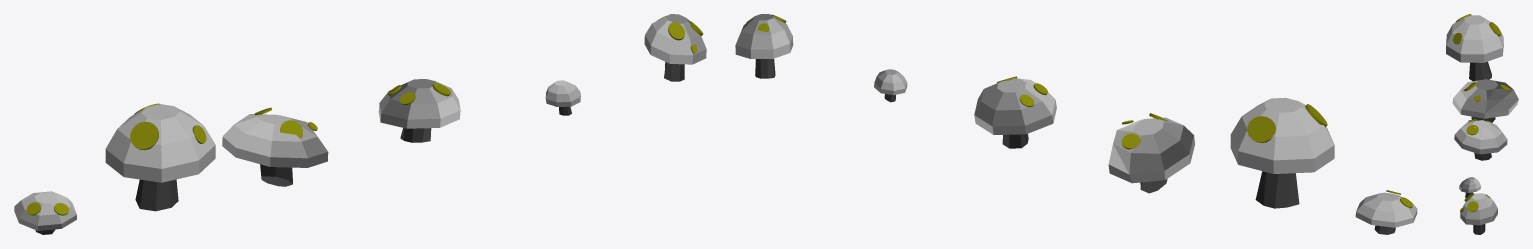
Rendered from YellowMushrooms.fbx.
The picture shows the model from 3 angles, left to right: view 1: azimuth 30°, elevation 25°; view 2: azimuth 150°, elevation 25°; view 3: azimuth 270°, elevation 25°; orthographic projection. The views are drawn at different scales.
Parts seen in each view (by area): view 1: Object003, Object004, Object005, Object006, Object001, Object002, Cylinder001; view 2: Object003, Object004, Object005, Object006, Object001, Object002, Cylinder011; view 3: Object003, Object004, Object005, Object006, Object002, Cylinder013, Cylinder004, Cylinder011, Cylinder003, Cylinder006.
Part boxes in pixels (x1,y1,x2,y2): Object003: (105, 104, 215, 211); Object004: (222, 114, 328, 186); Object005: (378, 79, 460, 142); Object006: (644, 14, 706, 81); Object001: (14, 191, 76, 234); Object002: (545, 80, 580, 115); Cylinder001: (130, 121, 158, 150); Object003: (1230, 97, 1334, 208); Object004: (1108, 117, 1194, 193); Object005: (974, 78, 1056, 148); Object006: (735, 14, 793, 78); Object001: (1355, 192, 1417, 234); Object002: (874, 69, 907, 102); Cylinder011: (1247, 116, 1275, 142); Object003: (1446, 15, 1503, 81); Object004: (1452, 79, 1518, 122); Object005: (1454, 120, 1507, 160); Object006: (1460, 193, 1497, 234); Object002: (1459, 177, 1480, 197); Cylinder013: (1466, 125, 1478, 135); Cylinder004: (1467, 201, 1478, 212); Cylinder011: (1489, 22, 1501, 36); Cylinder003: (1453, 33, 1462, 44); Cylinder006: (1463, 82, 1476, 91).
Bounding box in the file's own units: 71.81 × 10.71 × 10.91.
